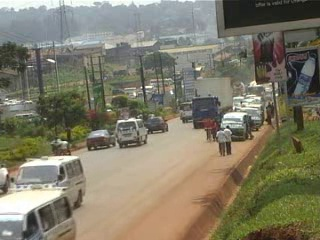Car: (81, 128, 119, 152), (145, 112, 170, 135)
Motorcycle: (55, 136, 73, 154)
